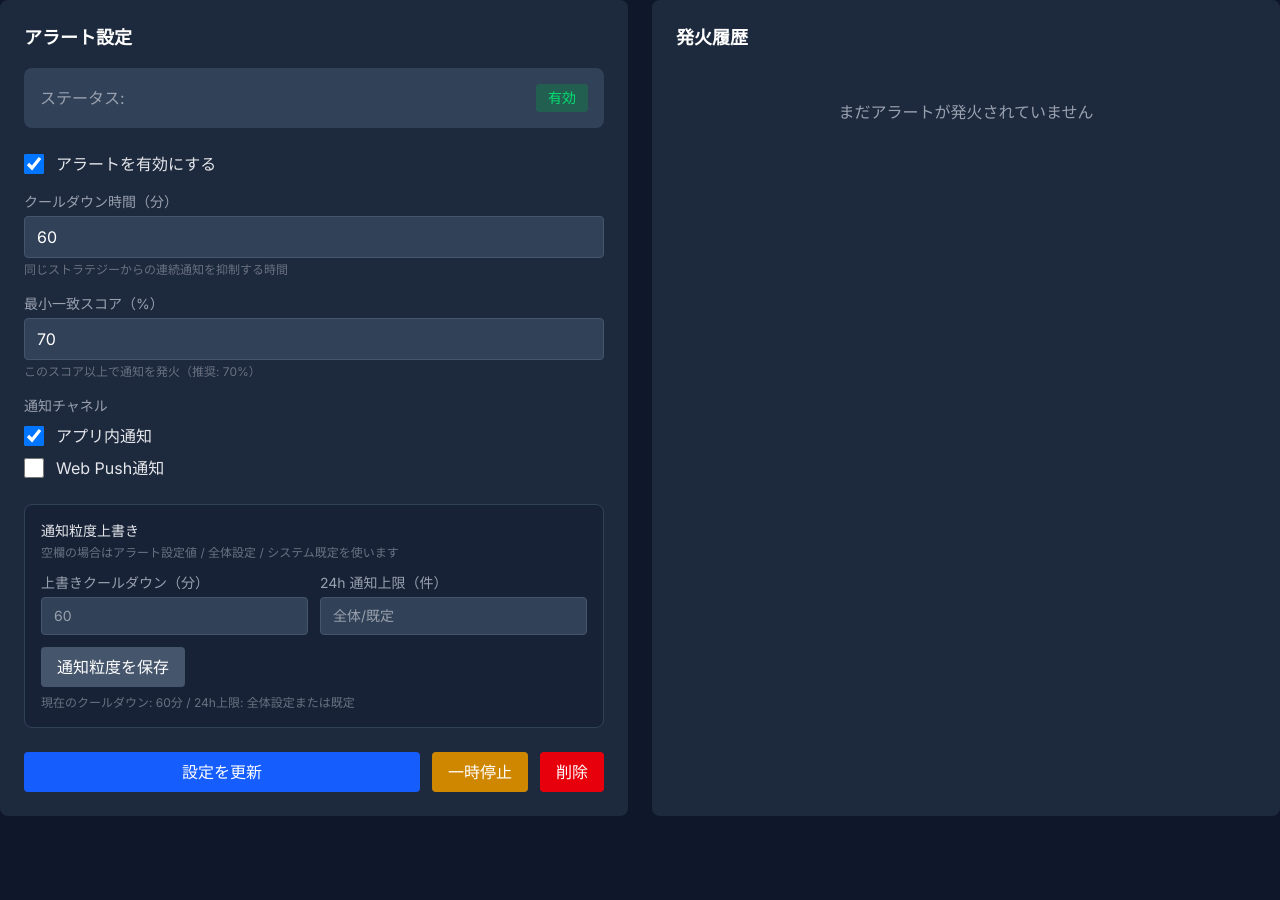
it: ストラテジーアラート設定画面 › バリデーションエラー時は古い成功メッセージを残さない
Click the button "通知粒度を保存" at x=113, y=667, box x1=41 y1=647 x2=185 y2=687
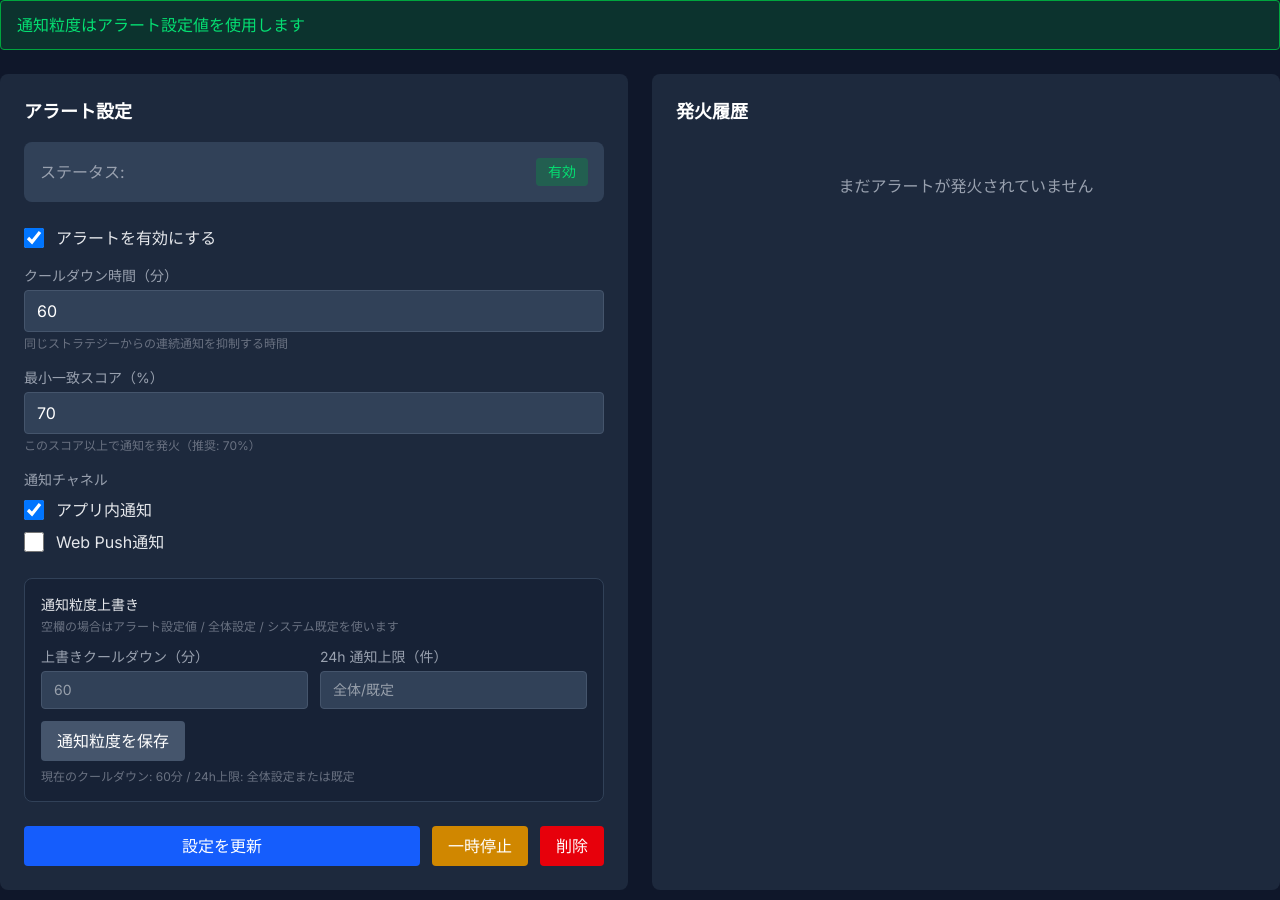
Now the text "通知粒度はアラート設定値を使用します" is shown, box x1=0 y1=0 x2=1279 y2=50
Type "0" into the number field named "ストラテジー通知粒度クールダウン" at x=174, y=690, box x1=41 y1=671 x2=308 y2=709
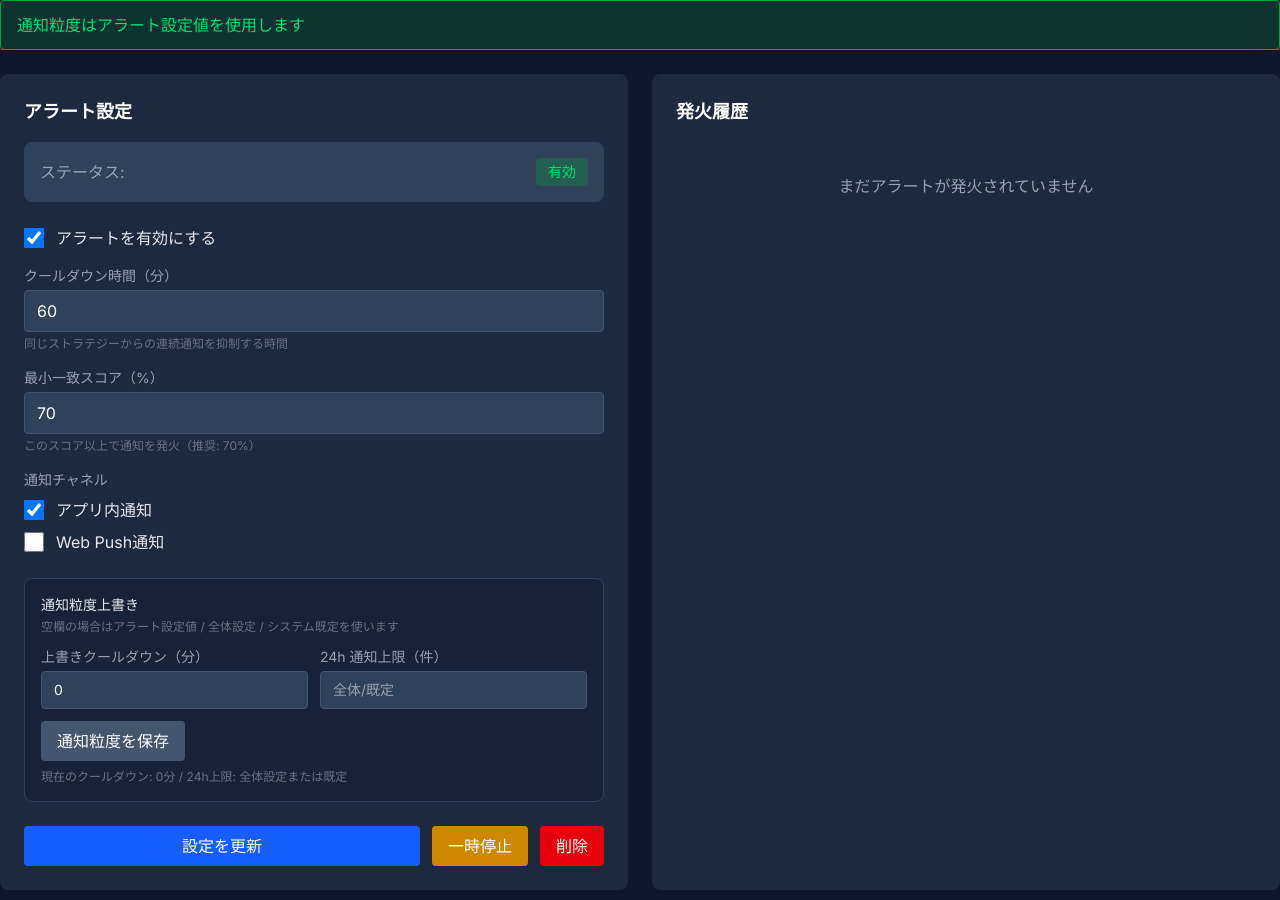
Click the button "通知粒度を保存" at x=113, y=741, box x1=41 y1=721 x2=185 y2=761
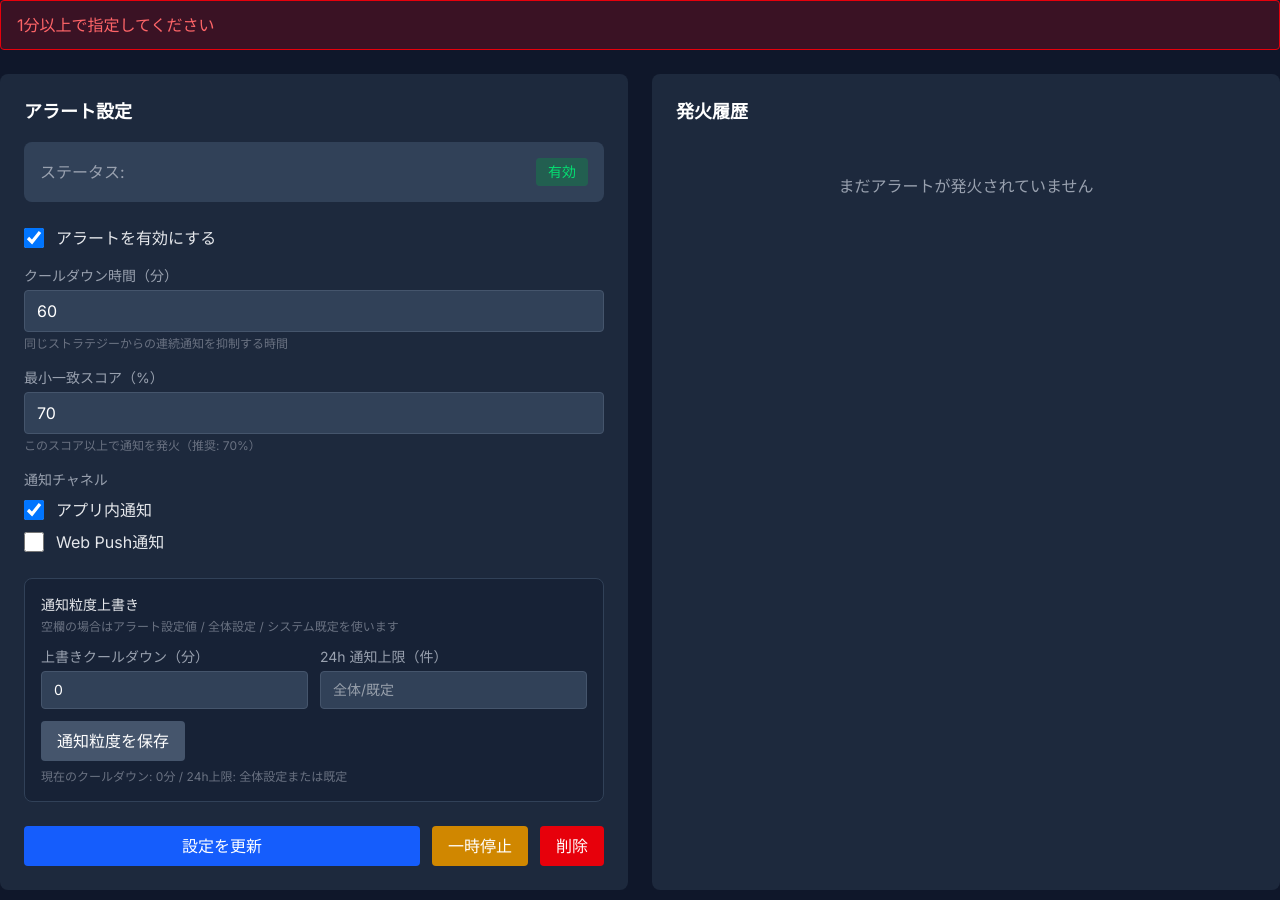
Now the text "1分以上で指定してください" is shown, box x1=0 y1=0 x2=1279 y2=50
Now the text "通知粒度はアラート設定値を使用します" is gone
